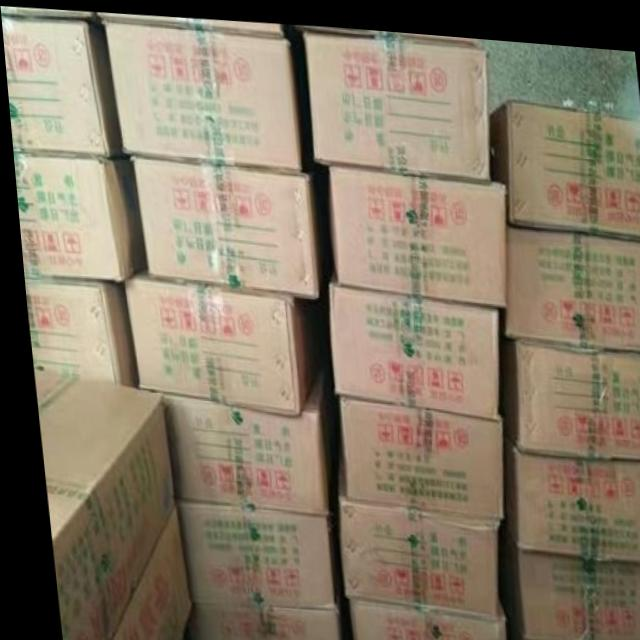box: (28, 369, 165, 640), (103, 19, 298, 166), (119, 267, 301, 412), (305, 27, 488, 171), (129, 153, 314, 294), (324, 157, 503, 301), (329, 450, 490, 607), (155, 369, 320, 510), (323, 277, 493, 411), (491, 92, 640, 232), (333, 390, 495, 510), (498, 220, 640, 344), (165, 498, 324, 606), (491, 441, 640, 553), (498, 330, 640, 446), (1, 17, 117, 154), (11, 152, 131, 280), (508, 541, 640, 632), (20, 277, 127, 382), (101, 507, 179, 640), (336, 593, 495, 640), (174, 597, 327, 640), (514, 630, 640, 640)
